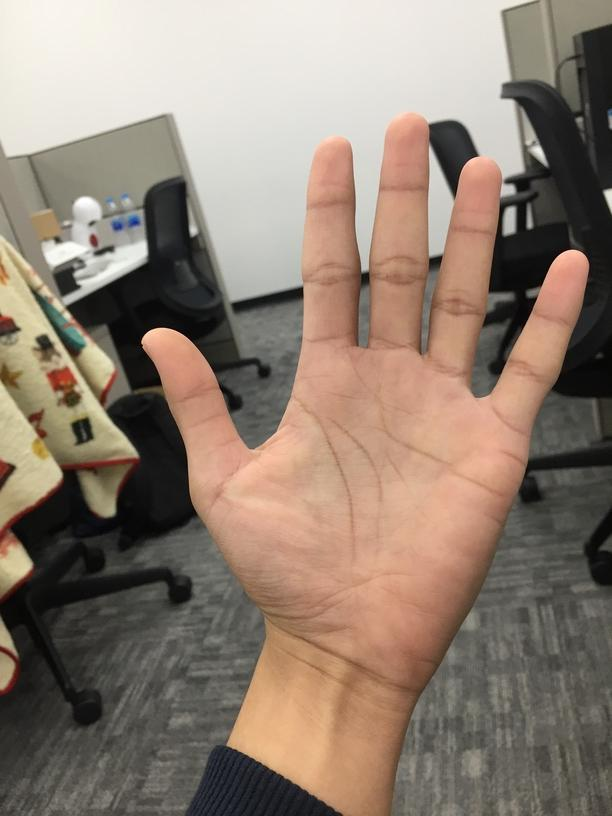hand: (139, 107, 591, 692)
